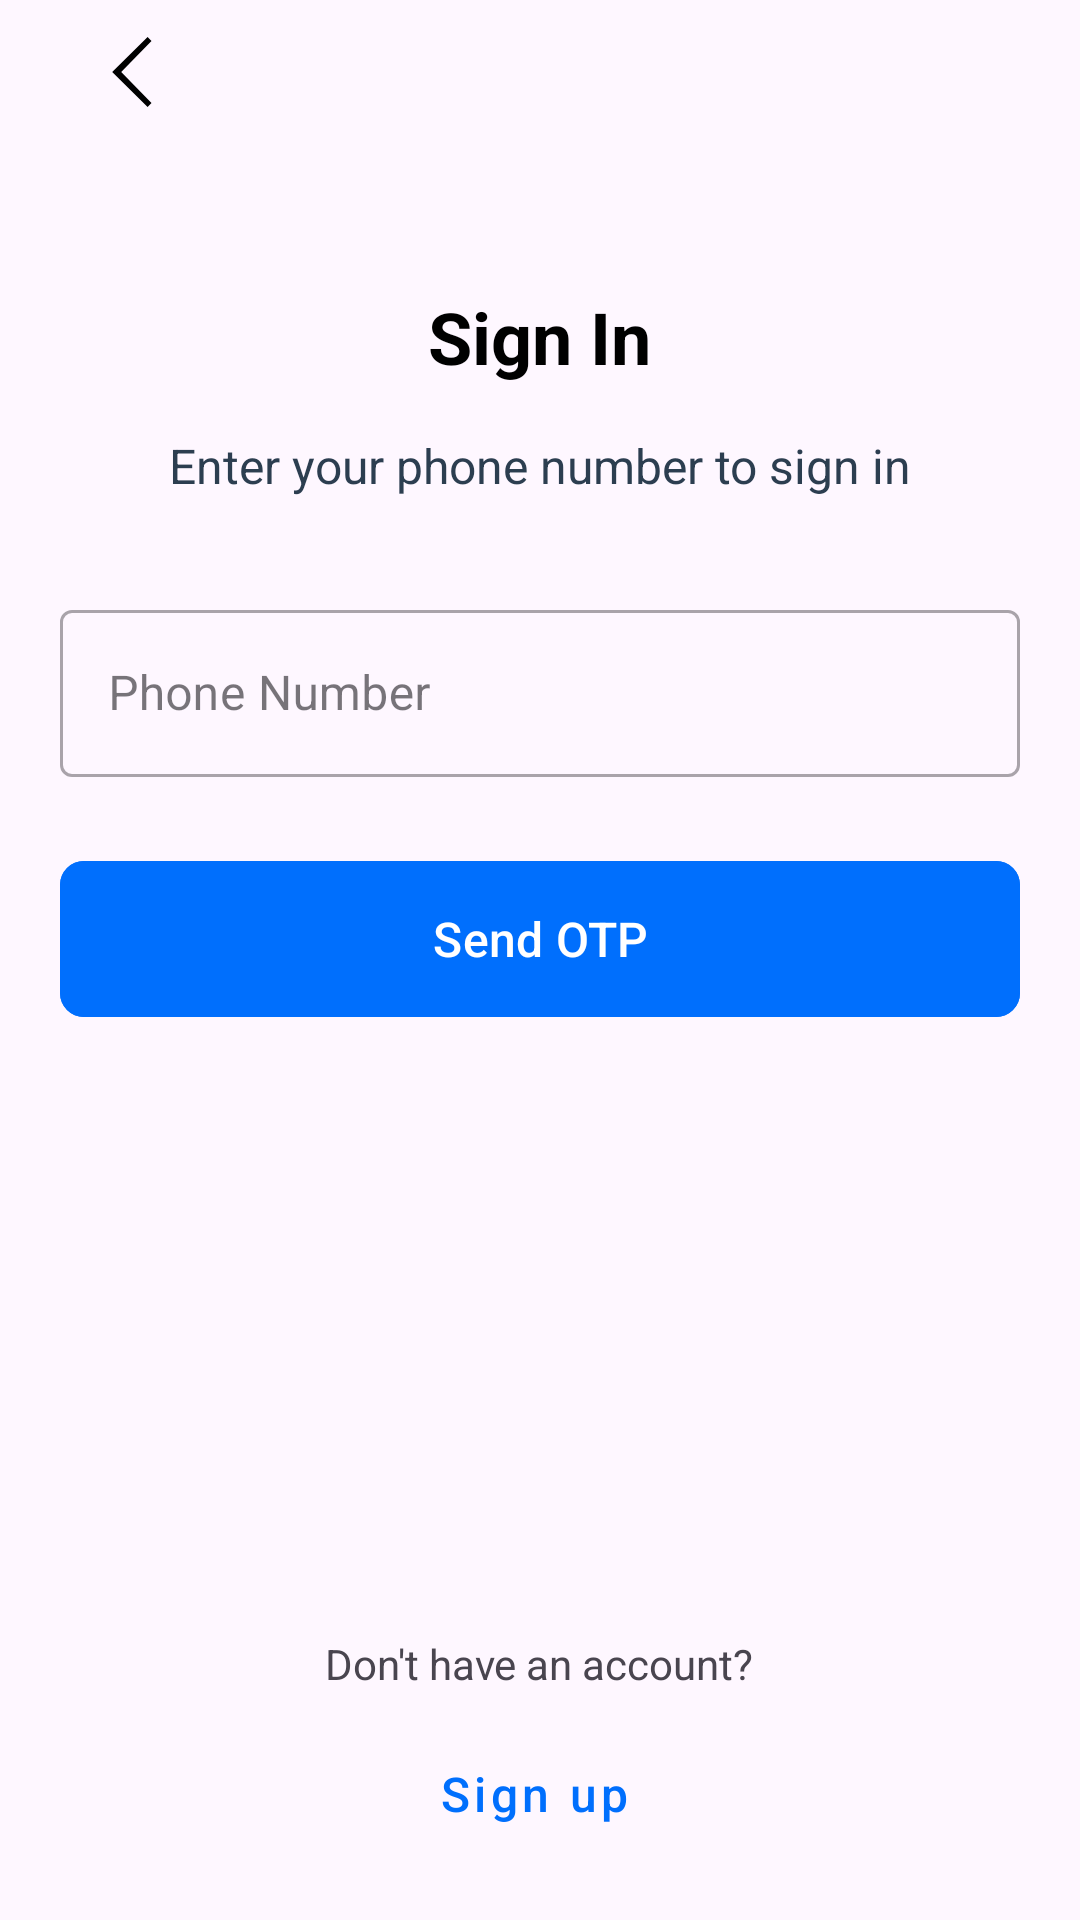

Named icons in this screenshot (1080px×1920px) and their bounding boxes, bbox=(x1, y1, x2, y2):
back: bbox=(112, 37, 152, 107)
